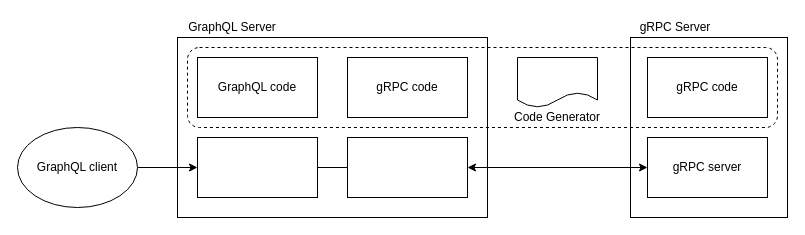
This 805x235 diagram has some shape labels left out. The shapes that lost their labels are listed below. From the top down, each one's centre as x and y in pixels, then its label:
At point 557,82: "Protobuf".
At point 257,167: "GraphQL Schema".
At point 407,167: "gRPC client".
